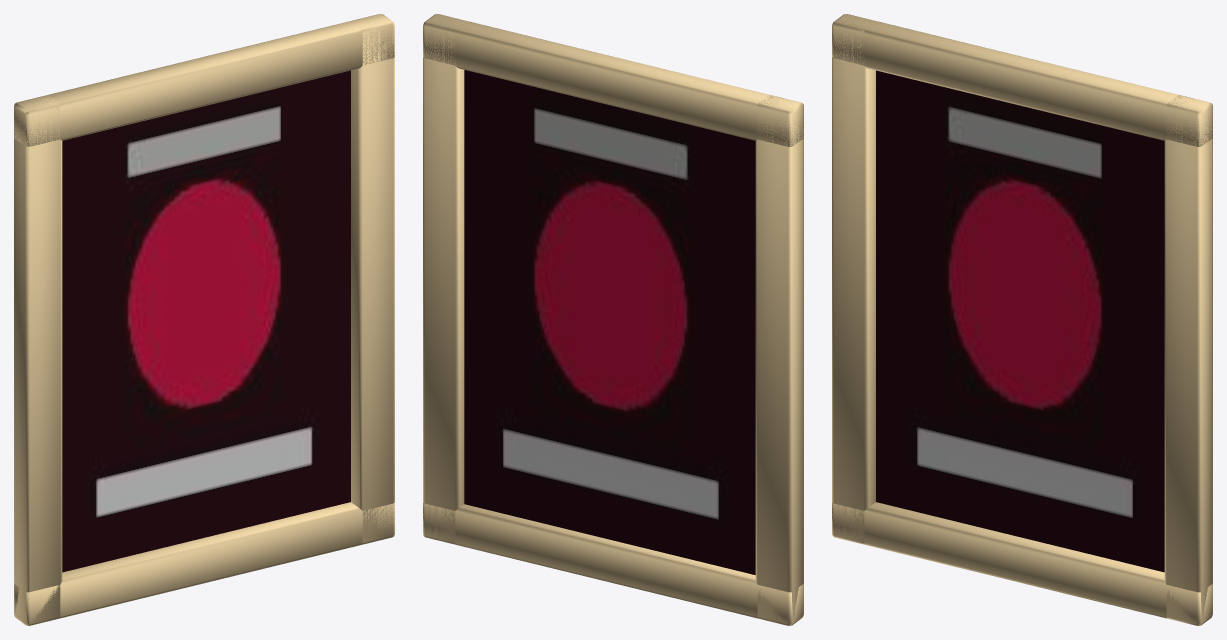
File: gallery_photo_1.glb
3 views of the same model, side by side, from view 1: azimuth 30°, elevation 25°; view 2: azimuth 150°, elevation 25°; view 3: azimuth 330°, elevation 25° (orthographic).
Visible parts, largest first — view 1: Photo, Brass; view 2: Photo, Brass; view 3: Photo, Brass.
Boxes of the visible parts, bbox=[...] form: Photo: bbox=[62, 70, 350, 572]; Brass: bbox=[14, 14, 394, 625]; Photo: bbox=[464, 70, 755, 574]; Brass: bbox=[423, 14, 803, 625]; Photo: bbox=[876, 70, 1164, 572]; Brass: bbox=[832, 14, 1212, 625].
Size of the model in its own units: 0.45 by 0.6 by 0.03.
2 materials, 1 textured.
